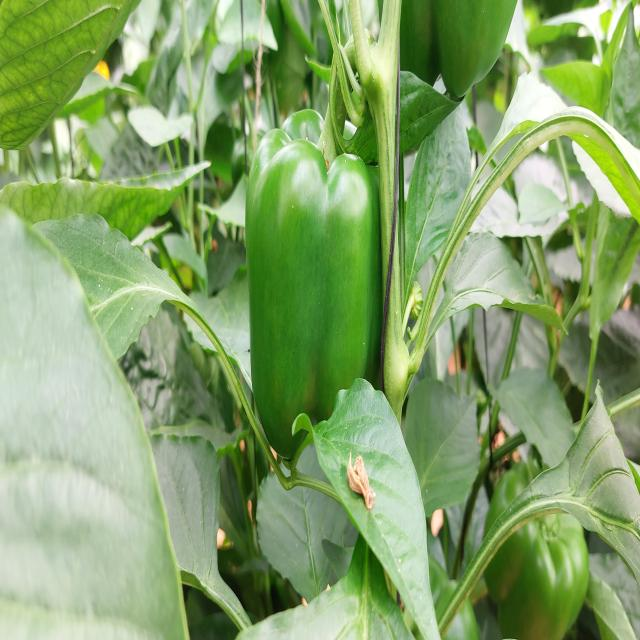Green--Not-ready-to-harvest: (241, 107, 396, 476), (484, 473, 585, 629), (382, 0, 517, 107)
